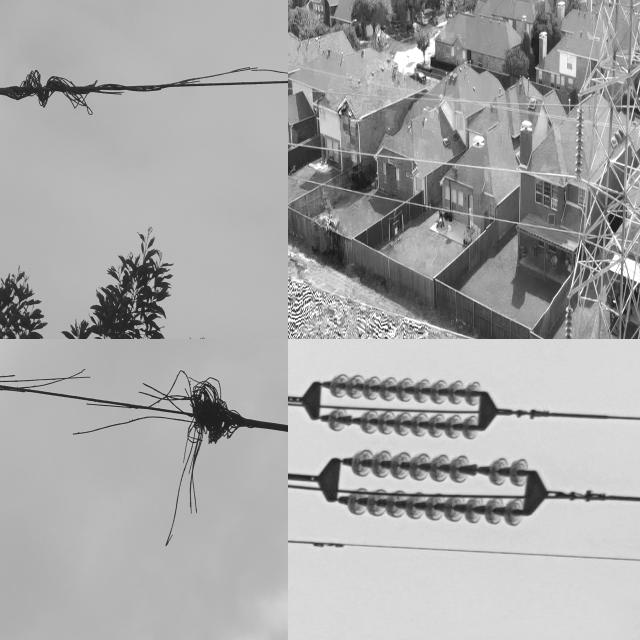杆塔: (567, 0, 640, 339)
正常电缆: (288, 167, 572, 244), (288, 138, 561, 184), (395, 304, 511, 339)
正常绝缘子: (340, 449, 534, 487), (349, 488, 528, 527), (328, 374, 483, 404), (328, 410, 480, 440), (574, 97, 586, 185), (561, 303, 573, 339)
电缆破损: (0, 339, 247, 545), (9, 53, 288, 112)
绝缘子破损: (345, 413, 361, 429), (469, 464, 485, 476)
